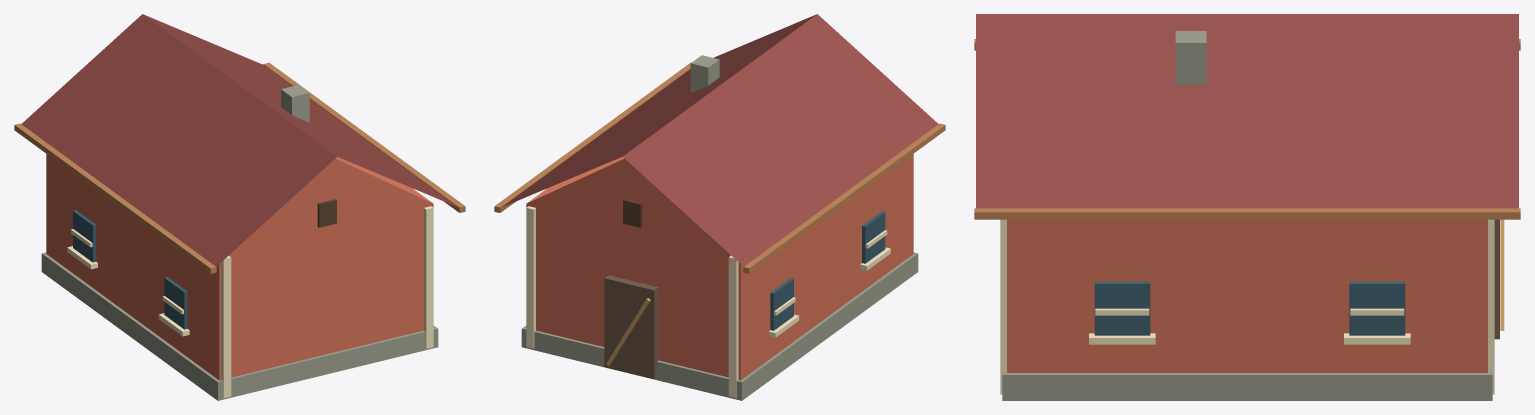
File: Grange.fbx
The picture shows the model from 3 angles, left to right: view 1: azimuth 30°, elevation 25°; view 2: azimuth 150°, elevation 25°; view 3: azimuth 270°, elevation 25°; orthographic projection. The views are drawn at different scales.
Parts seen in each view (by area): view 1: Grange; view 2: Grange; view 3: Grange.
Boxes of the visible parts, bbox=[...] form: Grange: bbox=[14, 14, 465, 400]; Grange: bbox=[494, 14, 945, 400]; Grange: bbox=[974, 14, 1520, 400].
Size of the model in its own units: 690 by 582 by 920.
1 material, 1 textured.
